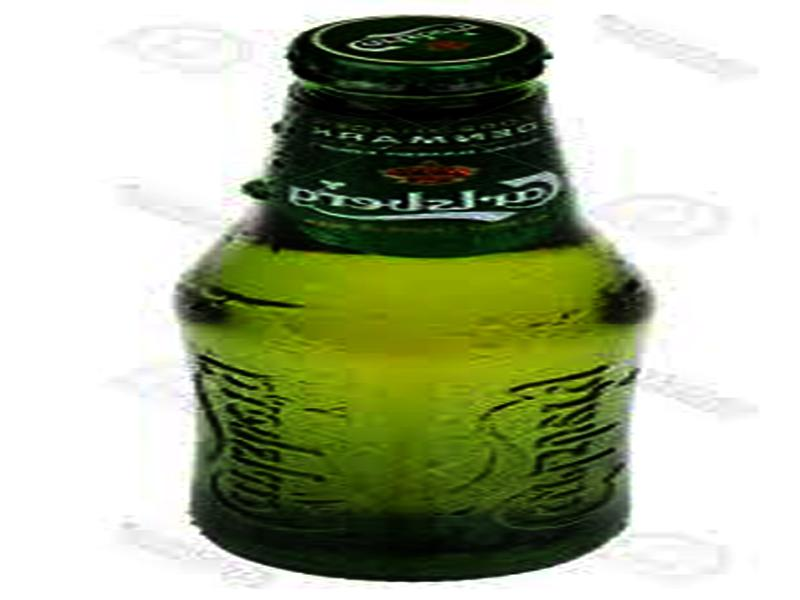Beer: (180, 15, 654, 583)
